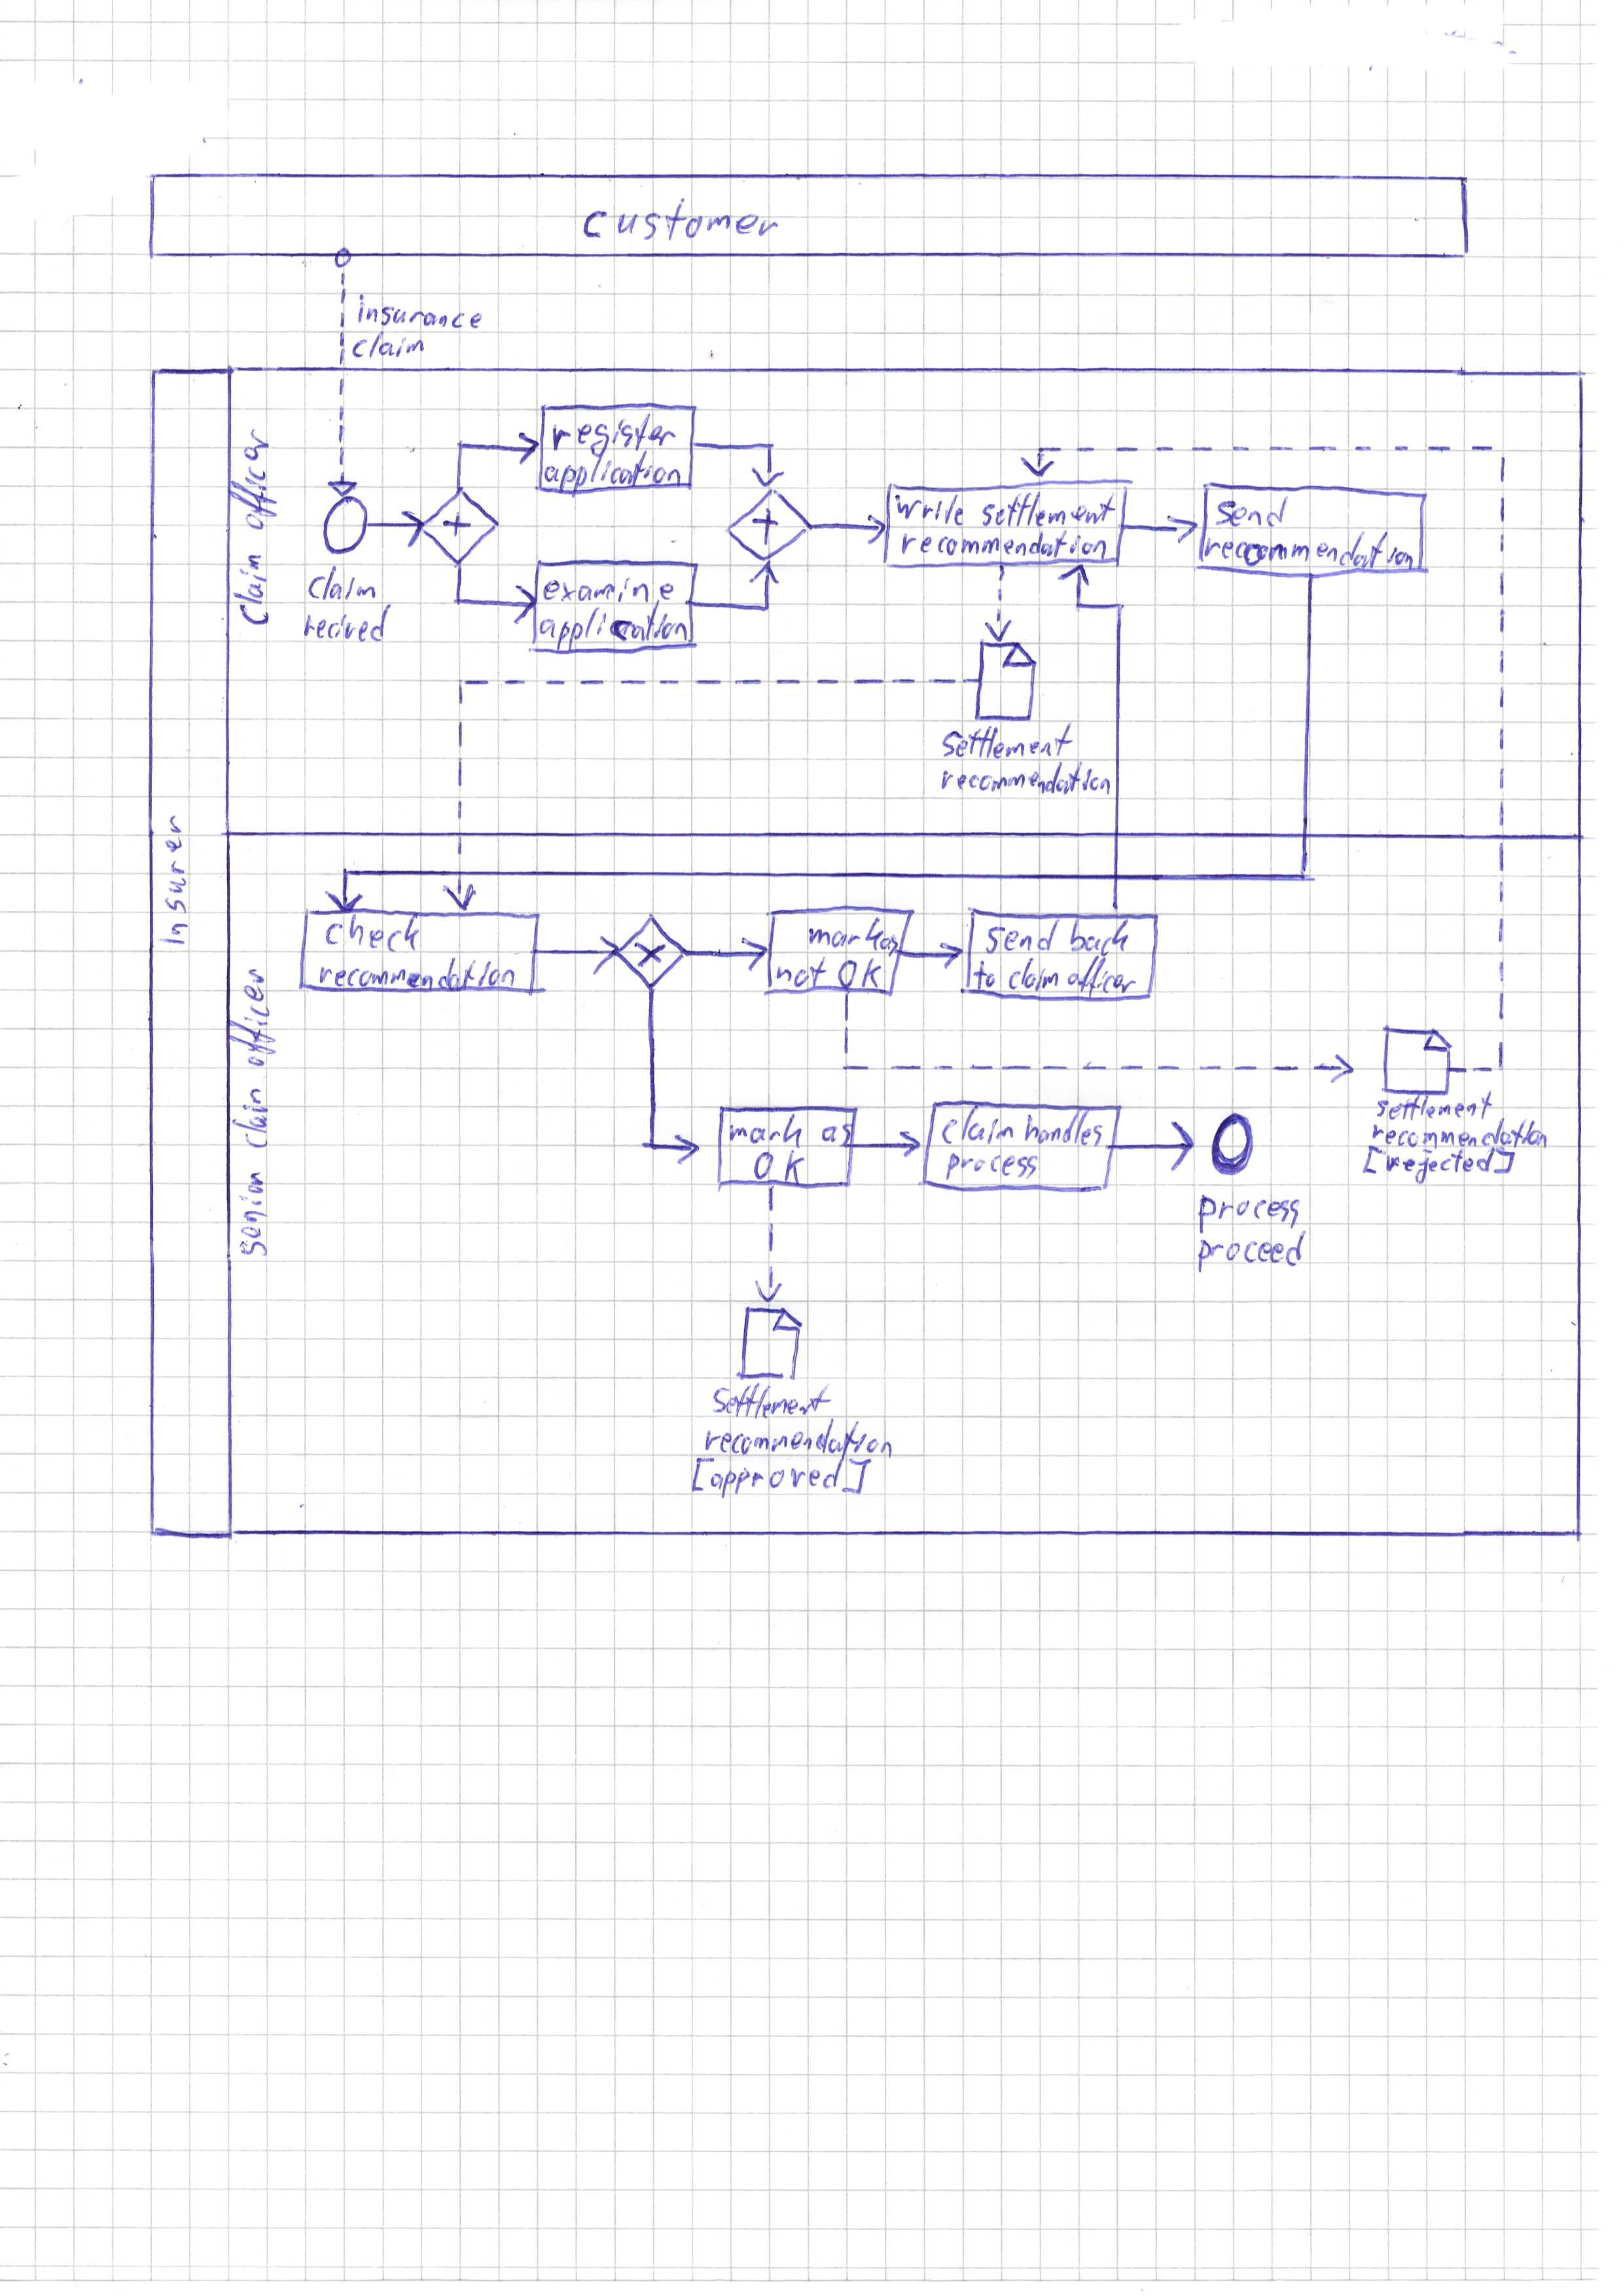Insurer: (153, 810, 193, 950)
OK: (750, 1147, 810, 1189), (833, 954, 887, 993)
[approved]: (687, 1453, 878, 1502)
[rejected]: (1358, 1142, 1519, 1189)
application: (534, 596, 692, 655), (539, 446, 685, 502)
as: (817, 1119, 857, 1151)
back: (1064, 913, 1135, 961)
check: (318, 908, 425, 959)
claim: (938, 1100, 1019, 1151), (228, 550, 274, 632), (304, 562, 381, 606), (346, 327, 429, 364), (228, 1084, 272, 1152), (1005, 954, 1063, 996)
customer: (576, 193, 783, 248)
examine: (539, 569, 680, 608)
handles: (1021, 1103, 1108, 1152)
insurance: (351, 288, 485, 336)
mark: (724, 1108, 806, 1152)
markes: (804, 912, 905, 961)
not: (771, 950, 831, 993)
officer: (223, 423, 283, 534), (223, 964, 281, 1073), (1061, 950, 1140, 1001)
proceed: (1191, 1224, 1310, 1279)
process: (1194, 1191, 1305, 1238), (940, 1149, 1043, 1186)
recived: (297, 599, 395, 646)
recommendation: (1200, 527, 1419, 574), (701, 1414, 898, 1463), (314, 952, 520, 998), (896, 525, 1112, 566), (1367, 1114, 1551, 1156), (938, 757, 1115, 799)
register: (546, 409, 682, 462)
send: (980, 912, 1063, 957), (1212, 492, 1295, 532)
senior: (234, 1166, 274, 1261)
settlement: (938, 717, 1080, 764), (977, 487, 1121, 532), (708, 1379, 838, 1423), (1372, 1086, 1497, 1126)
to: (968, 956, 1001, 994)
write: (891, 488, 968, 531)
